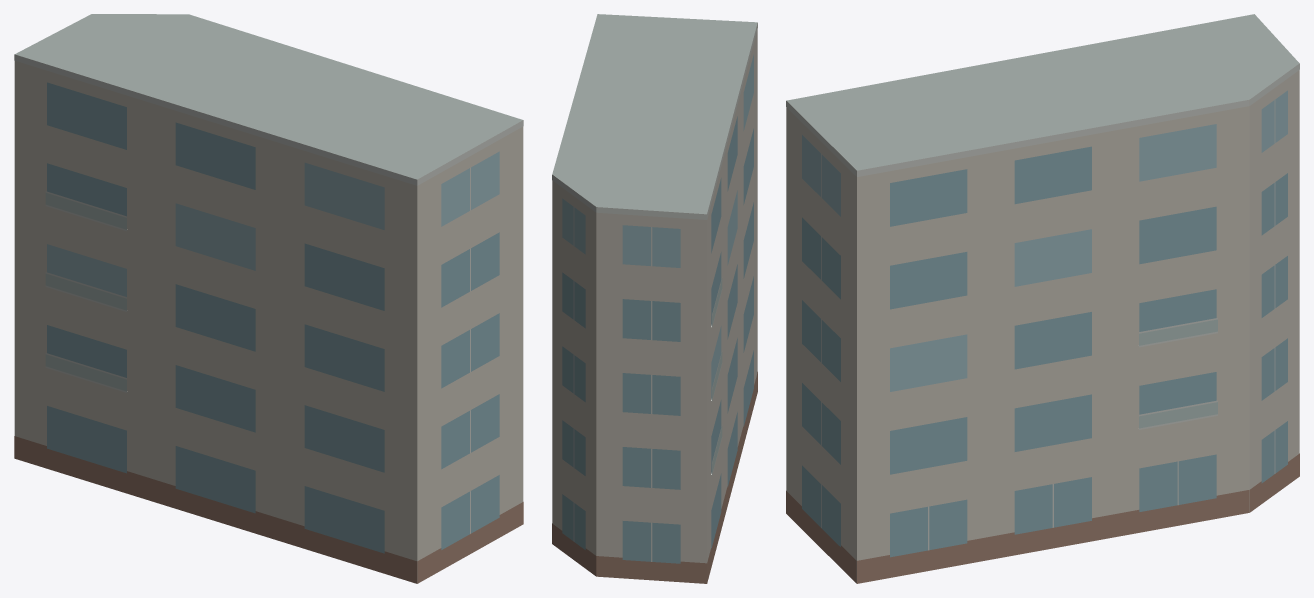
File: survey-upis-33046168.glb
3 views of the same model, side by side, from view 1: azimuth 30°, elevation 25°; view 2: azimuth 150°, elevation 25°; view 3: azimuth 270°, elevation 25° (orthographic). The views are drawn at different scales.
Parts seen in each view (by area): view 1: survey-upis-33046168.tmp; view 2: survey-upis-33046168.tmp; view 3: survey-upis-33046168.tmp.
Part boxes in pixels (x1,y1,x2,y2): survey-upis-33046168.tmp: [14, 14, 523, 583]; survey-upis-33046168.tmp: [552, 14, 757, 583]; survey-upis-33046168.tmp: [786, 14, 1299, 583].
Size of the model in its own units: 12.83 by 15.75 by 17.75.
